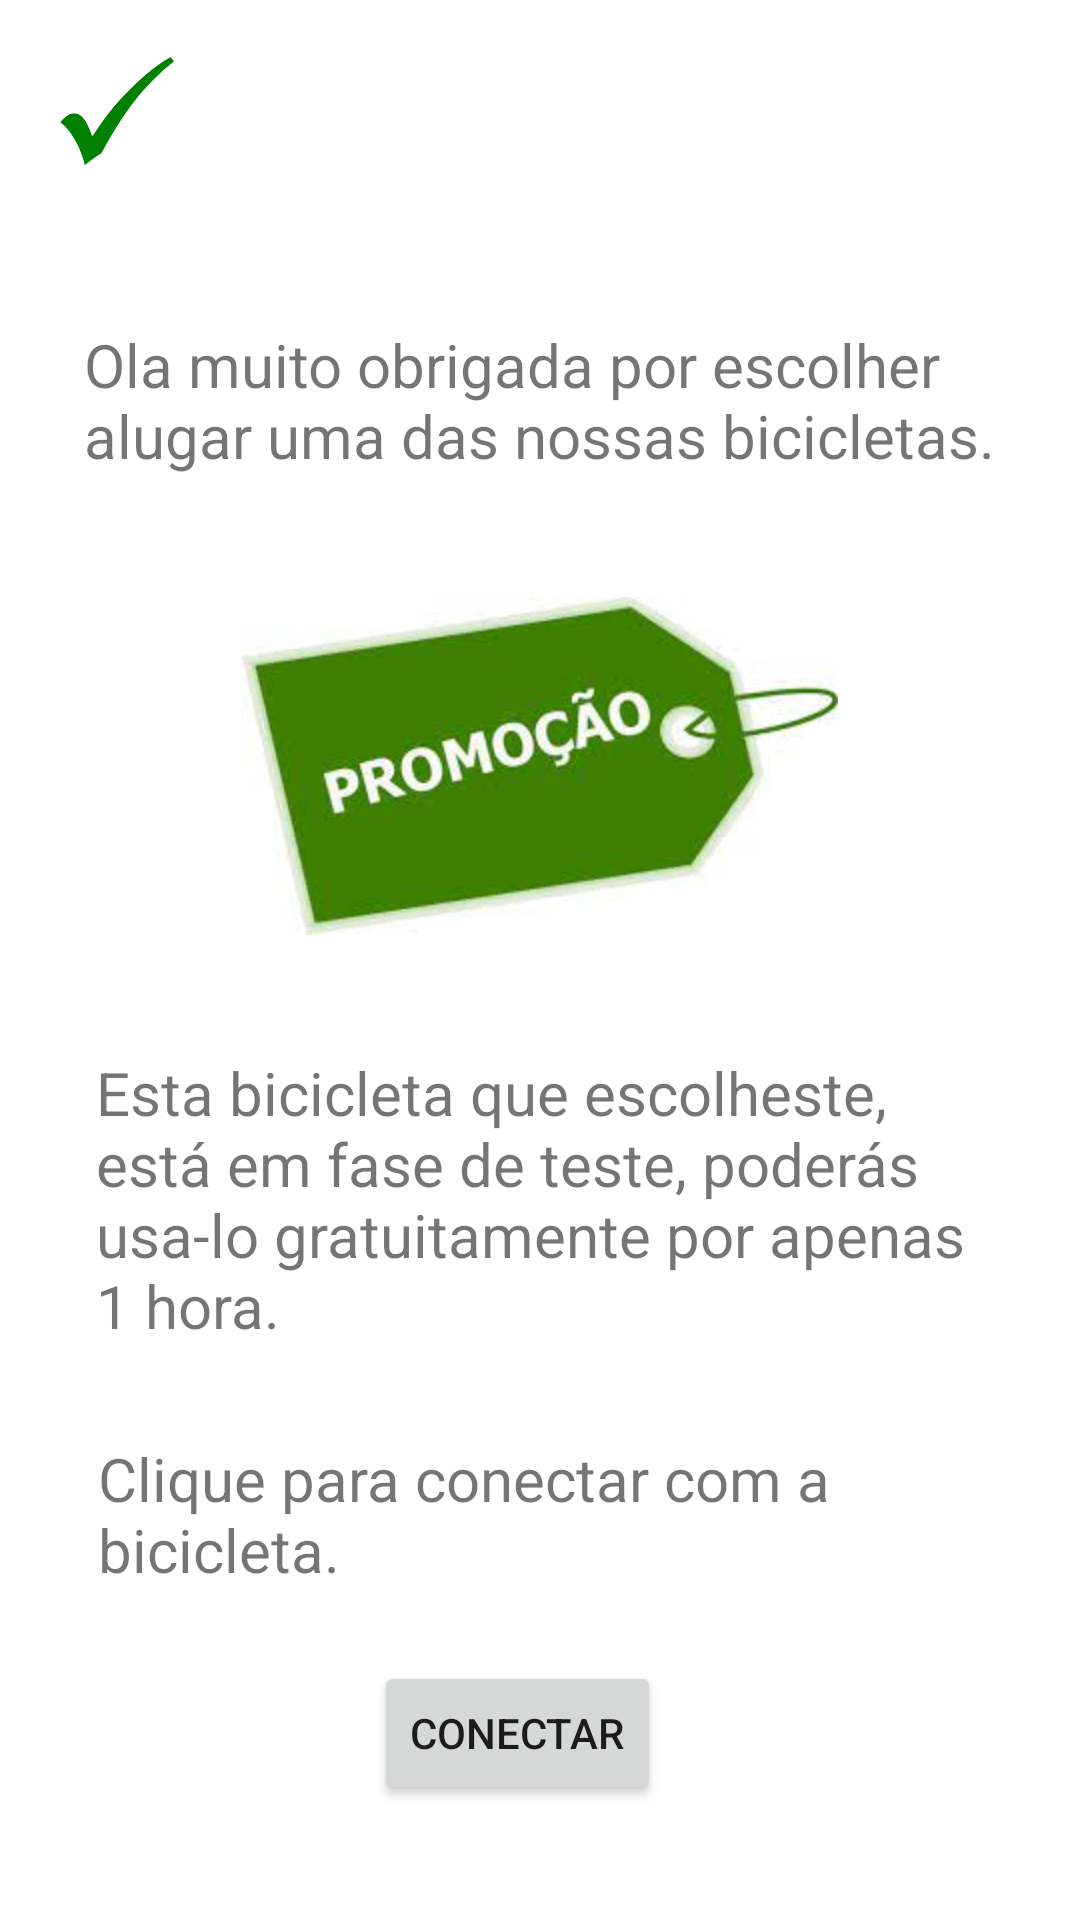

Icons on this 1080px×1920px Android screen, each with its box as [left=x1, top=y1, right=x2, bottom=y2]:
imagedecerta: [left=60, top=57, right=174, bottom=165]
